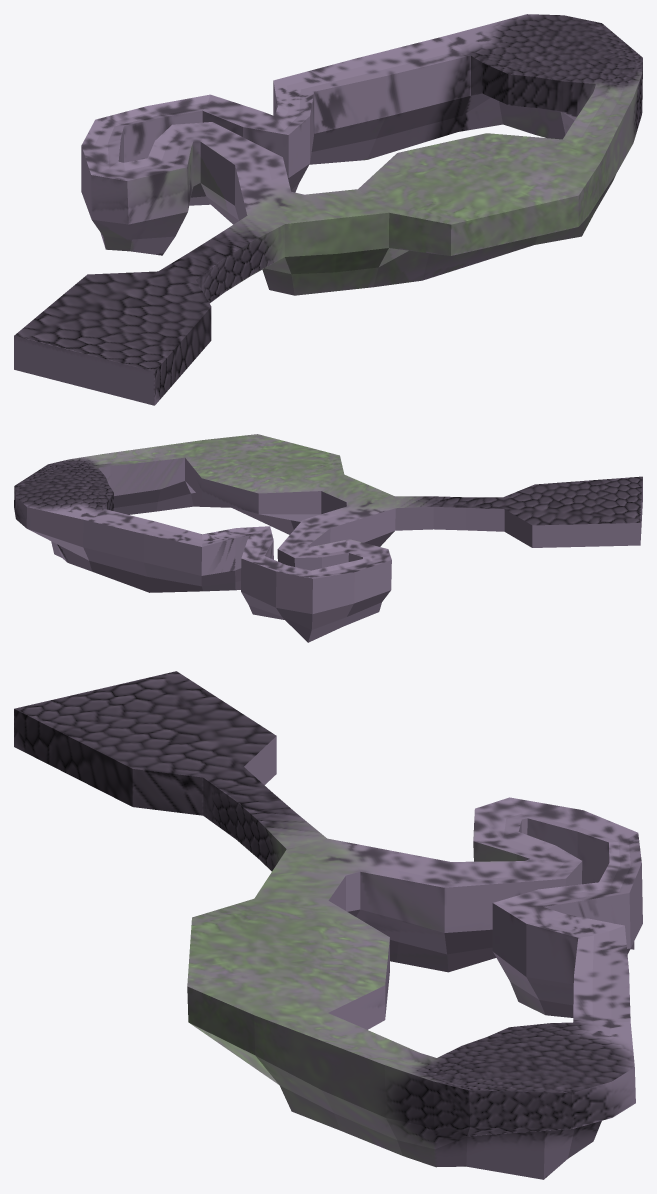
The model's file is Level1.fbx.
3 views of the same model, one above another, from view 1: azimuth 30°, elevation 25°; view 2: azimuth 150°, elevation 25°; view 3: azimuth 270°, elevation 25° (orthographic). The views are drawn at different scales.
Visible parts, largest first — view 1: Cube; view 2: Cube; view 3: Cube.
Part boxes in pixels (bbox=[...]): Cube: bbox=[14, 14, 642, 405]; Cube: bbox=[14, 434, 642, 642]; Cube: bbox=[14, 671, 642, 1179].
Bounding box in the file's own units: 4713 × 609 × 2986.
